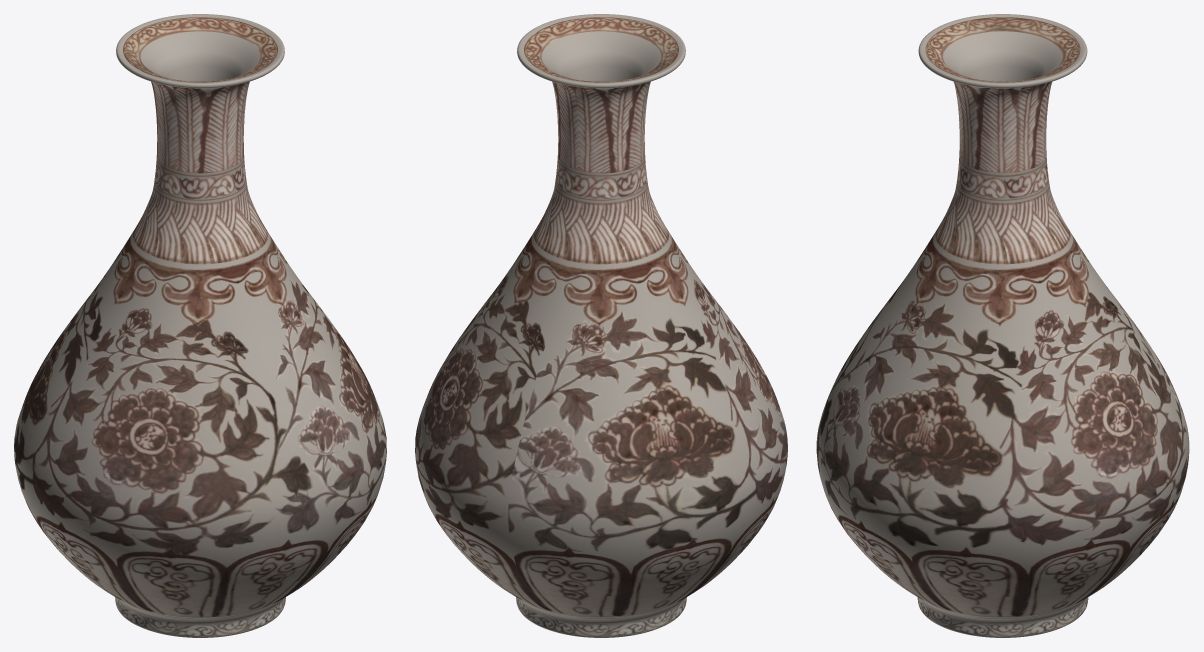
3 renders of one model, left to right at view 1: azimuth 30°, elevation 25°; view 2: azimuth 150°, elevation 25°; view 3: azimuth 270°, elevation 25°, orthographic.
Parts seen in each view (by area): view 1: object6_middle_0, object6_top1_0; view 2: object6_middle_0, object6_top1_0; view 3: object6_middle_0, object6_top1_0.
Boxes of the visible parts, x1,y1,x2,y2 form: object6_middle_0: (14, 231, 386, 637); object6_top1_0: (116, 14, 284, 264); object6_middle_0: (415, 231, 787, 637); object6_top1_0: (517, 14, 685, 264); object6_middle_0: (816, 231, 1189, 637); object6_top1_0: (918, 14, 1087, 264).
Bounding box in the file's own units: 12.97 × 21.25 × 12.97.
2 materials, 2 textured.
